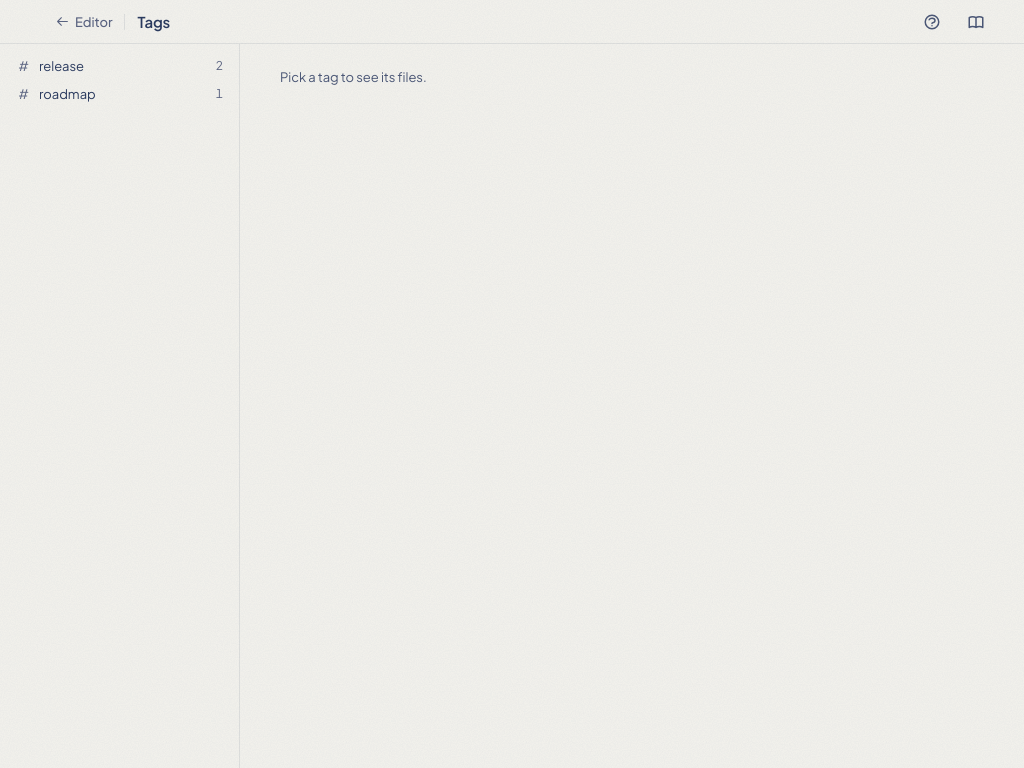
it: TagsPage › shows a tag's notes, newest first, and keeps the tag in the URL
Click the button "# release 2" at (120, 66), box [8, 52, 231, 80]
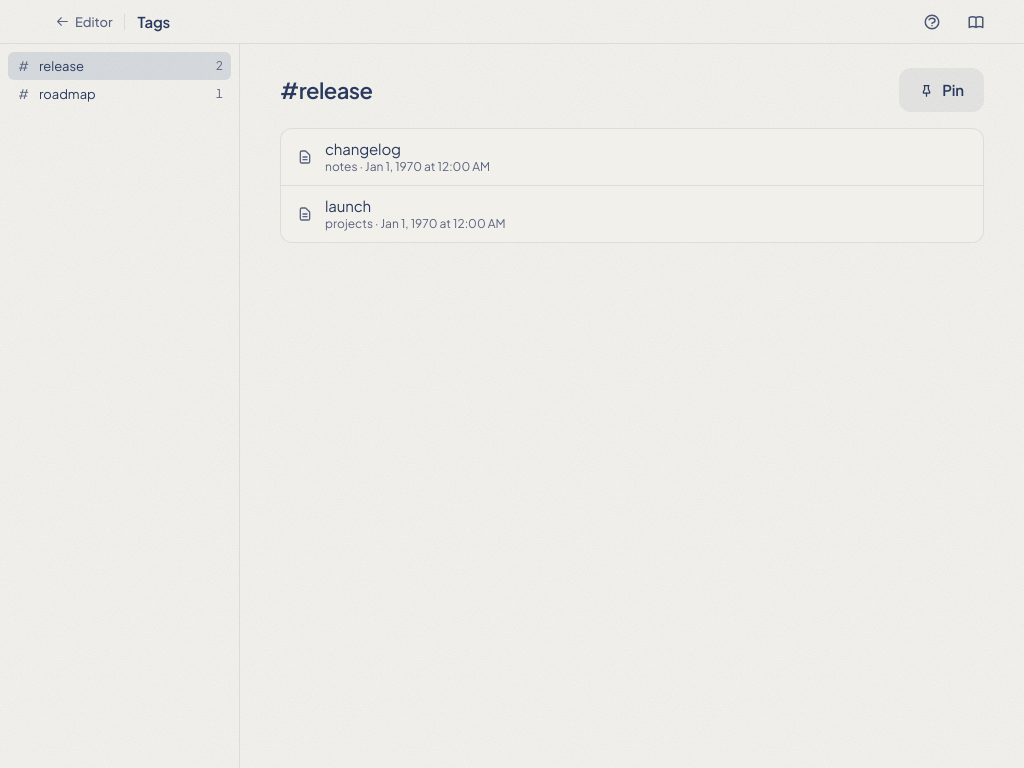
Expected: the button "changelog notes · Jan 1, 1970 at 12:00 AM" is shown, [281, 129, 983, 185]
Expected: the button "launch projects · Jan 1, 1970 at 12:00 AM" is shown, [281, 186, 983, 242]
